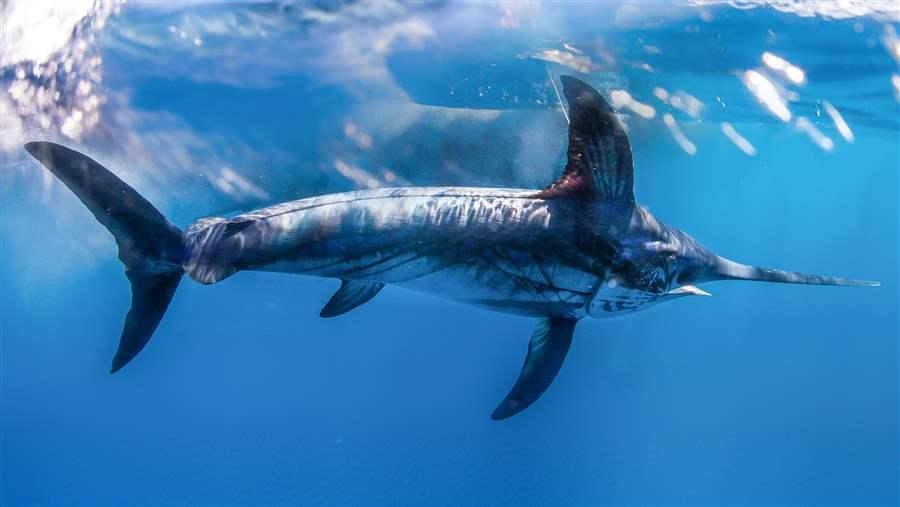swordfish: (16, 80, 888, 423)
